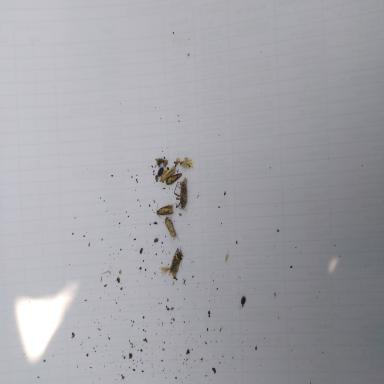pbw: (168, 246, 184, 278), (165, 217, 180, 241), (155, 202, 175, 218), (160, 165, 176, 182), (165, 173, 182, 185)
